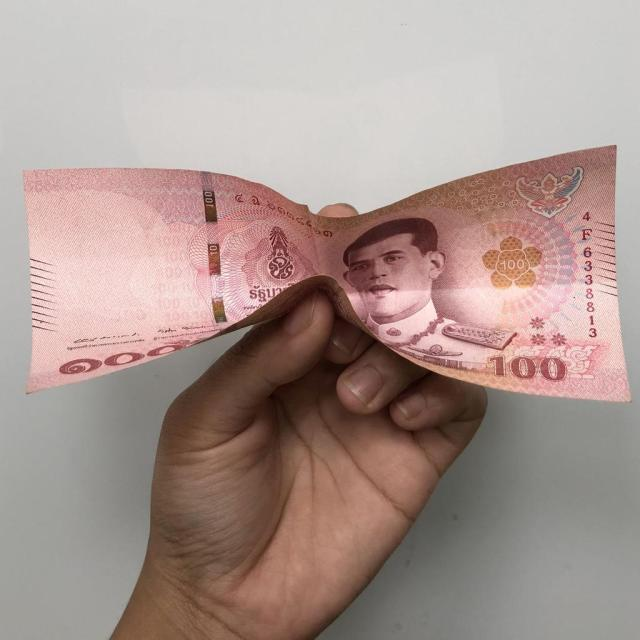THAI100: (21, 152, 630, 402)
